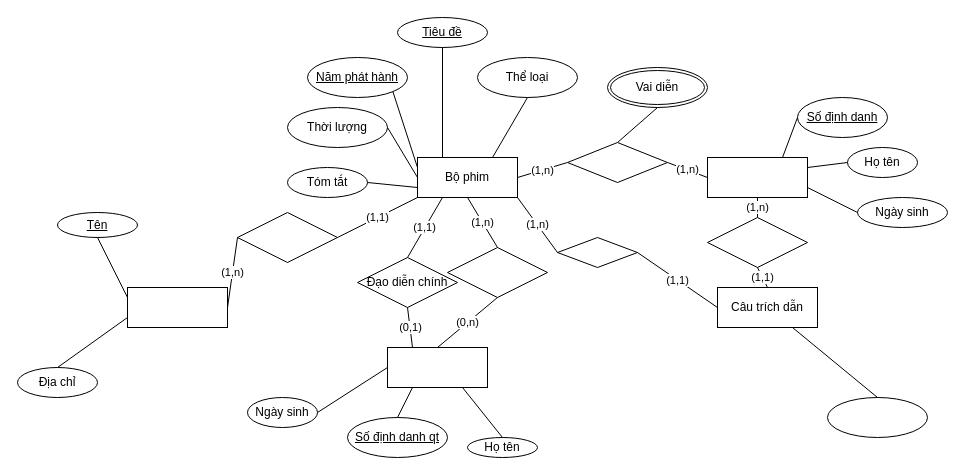
Some shapes in this 965 by 475 pixel diagram are drawn without their labels. Here are the shapes that lost their labels. From the top down, the centre of each, then its label:
At [617,162]: "Diễn".
At [757,177]: "Diễn viên".
At [287,237]: "Sản xuất".
At [597,252]: "Thuộc".
At [757,242]: "Phát biểu".
At [497,272]: "Phụ trách".
At [177,307]: "Công ty".
At [437,367]: "Đạo diễn".
At [877,417]: "Câu trích".
